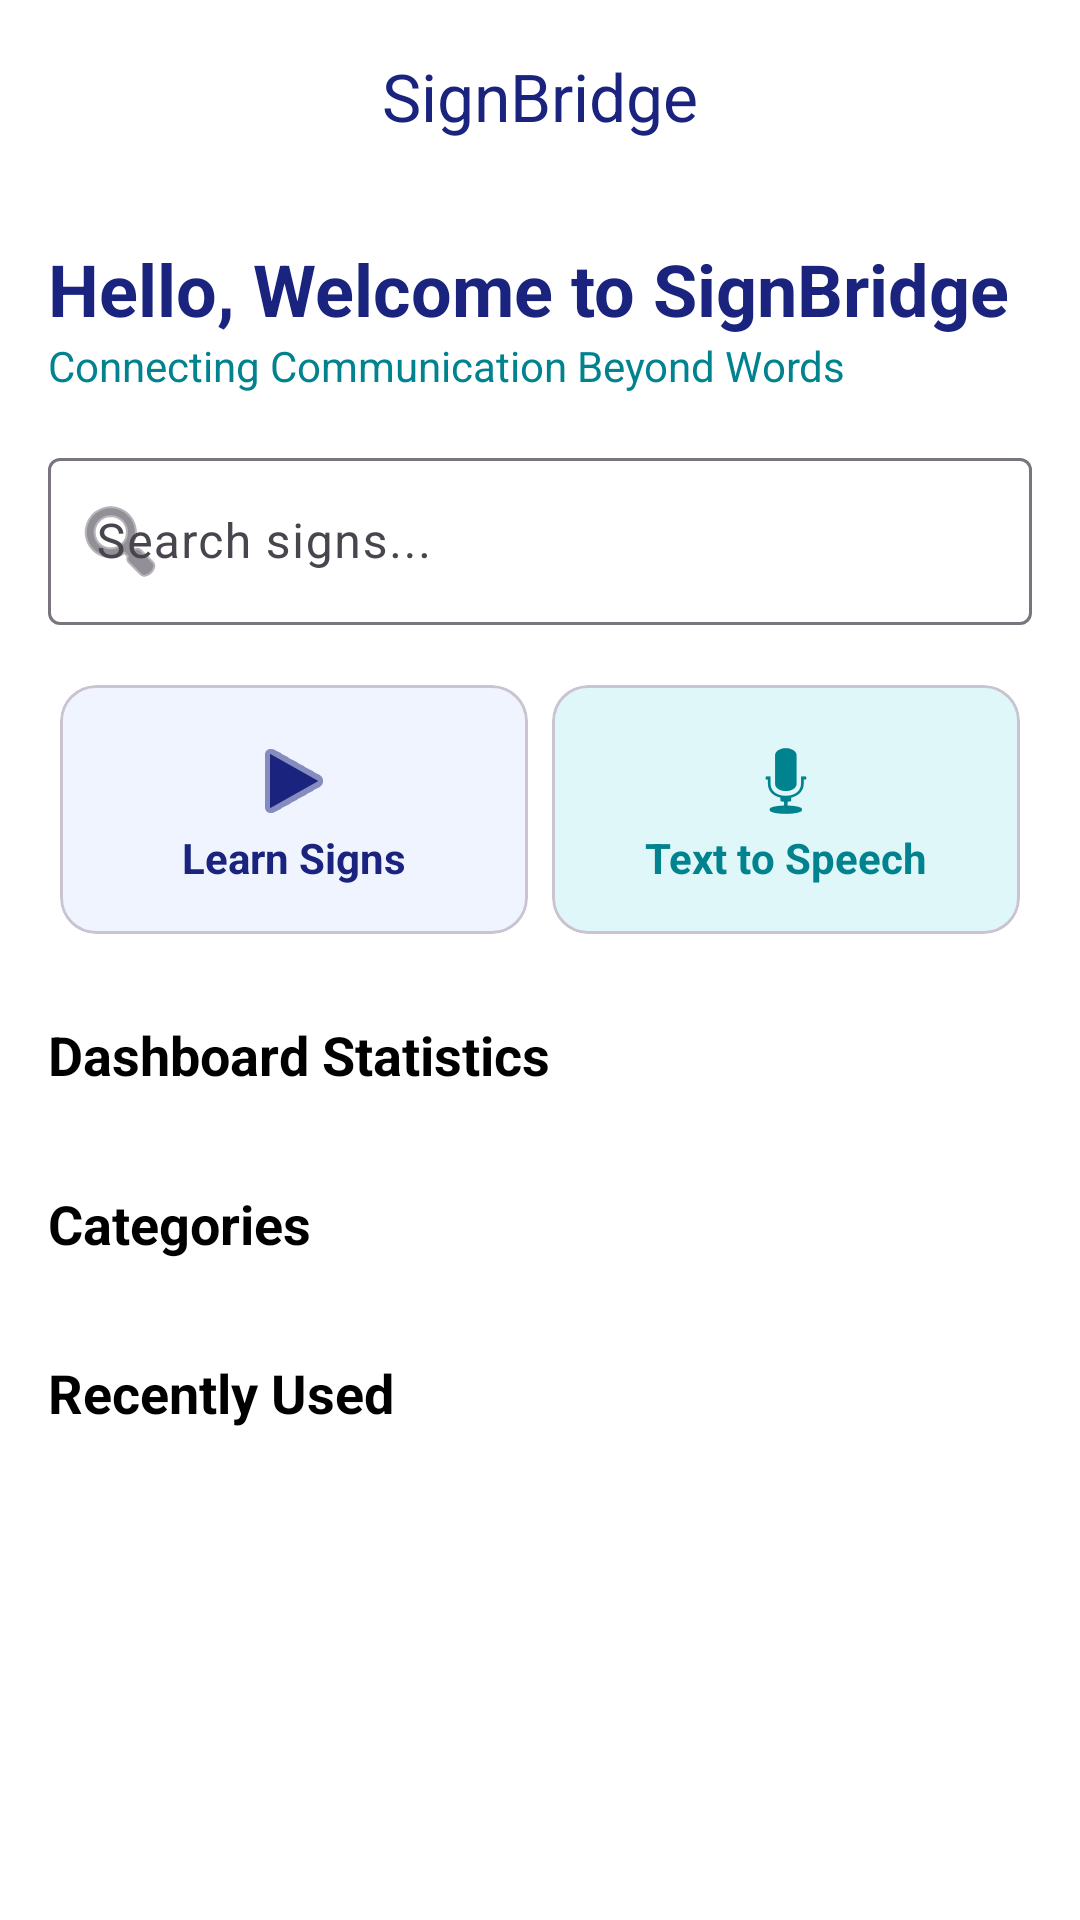

Named icons in this screenshot (1080 x 1920) and their bounding boxes, {"x1": x1, "y1": y1, "x2": x2, "y2": y2}:
play: {"x1": 265, "y1": 749, "x2": 323, "y2": 813}
speak now: {"x1": 765, "y1": 748, "x2": 807, "y2": 814}
